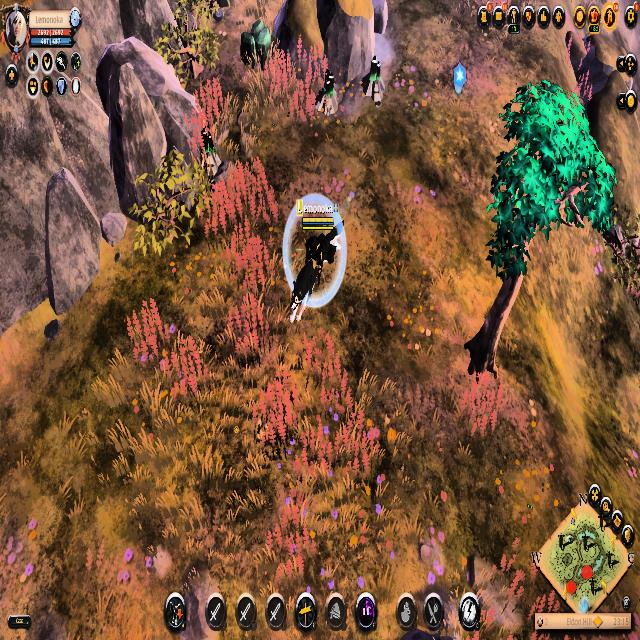ore tier 3: (360, 53, 386, 109), (315, 66, 339, 119)
rock tier 3: (238, 15, 285, 79)
wood tier 3: (489, 78, 618, 280)
